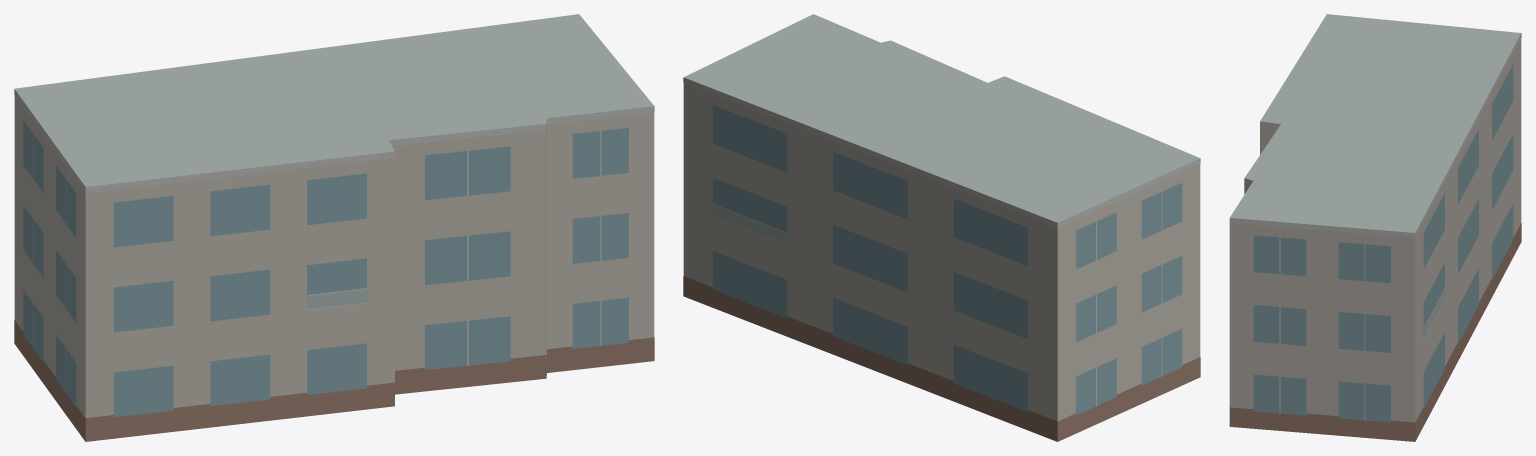
File: survey-upis-32620070.glb
3 renders of one model, left to right at view 1: azimuth 30°, elevation 25°; view 2: azimuth 150°, elevation 25°; view 3: azimuth 270°, elevation 25°, orthographic. The views are drawn at different scales.
Parts seen in each view (by area): view 1: survey-upis-32620070.tmp; view 2: survey-upis-32620070.tmp; view 3: survey-upis-32620070.tmp.
Part boxes in pixels (bbox=[...]): survey-upis-32620070.tmp: bbox=[14, 14, 654, 441]; survey-upis-32620070.tmp: bbox=[683, 14, 1200, 441]; survey-upis-32620070.tmp: bbox=[1229, 14, 1521, 441].
Size of the model in its own units: 22.26 by 9.9 by 12.54.
